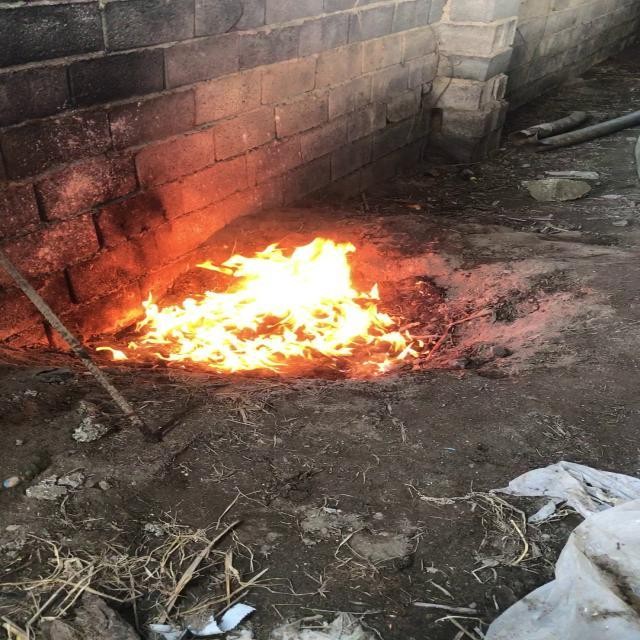Fire: (148, 240, 436, 372)
